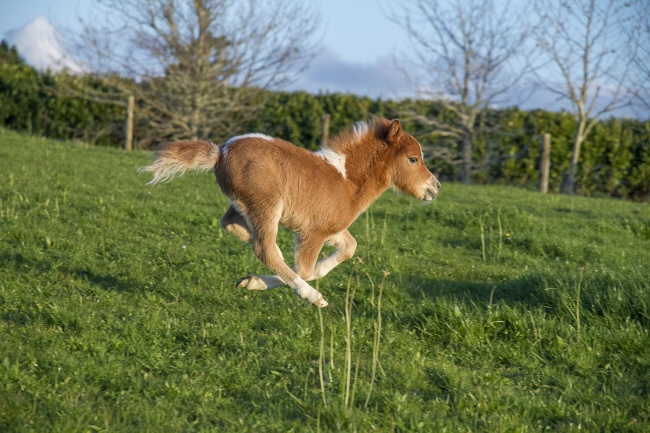horse: (137, 116, 441, 309)
